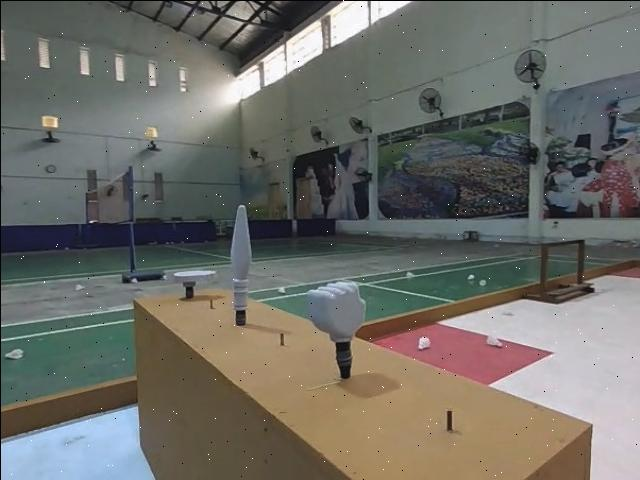Fist: (307, 280, 364, 383)
Hand: (174, 266, 210, 298)
Sph: (224, 202, 252, 326)
